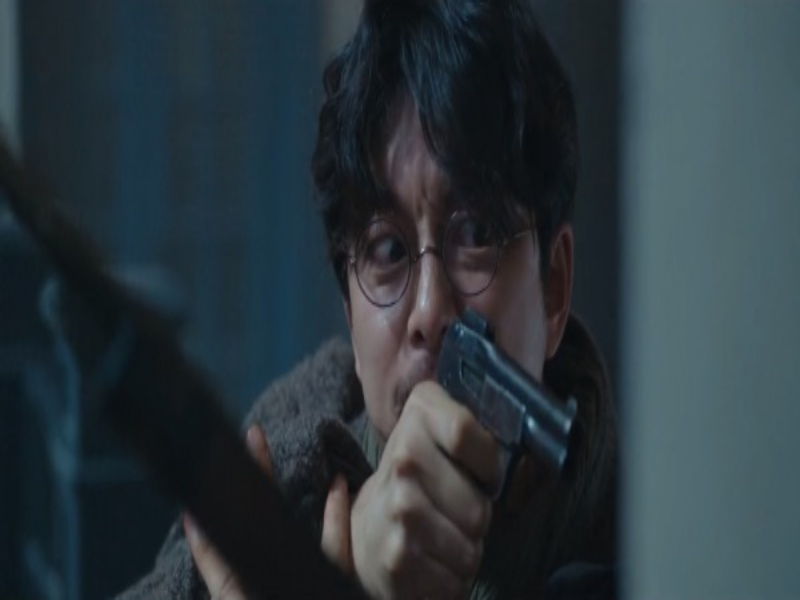person: (121, 3, 624, 594)
weapon: (437, 309, 583, 485)
